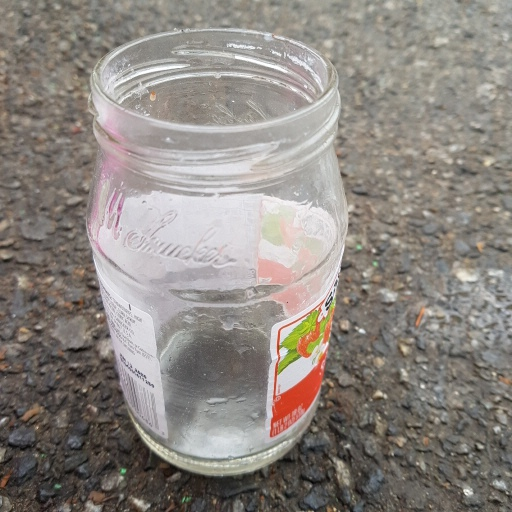Glass_5: (81, 26, 351, 480)
